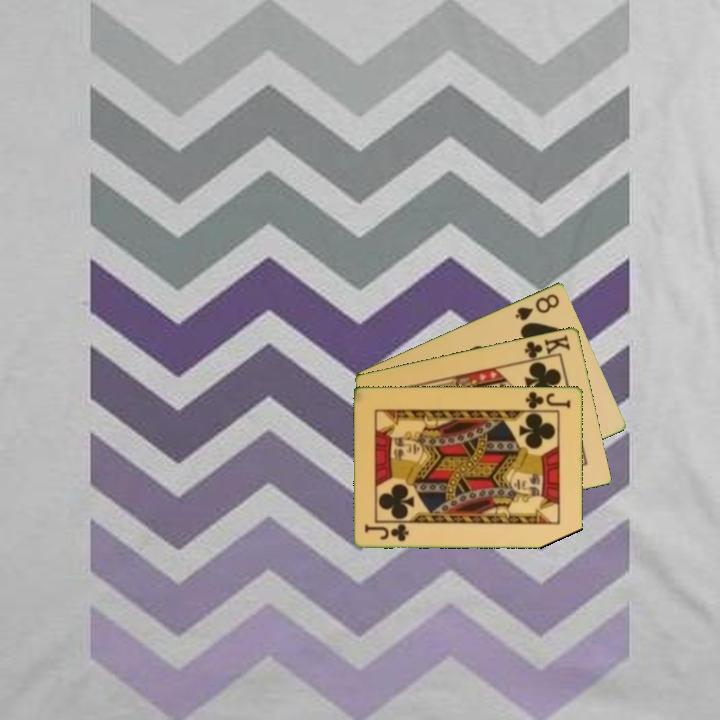8s: (511, 290, 563, 323)
Jc: (522, 388, 574, 411), (361, 521, 412, 544)
Kc: (521, 331, 573, 363)
